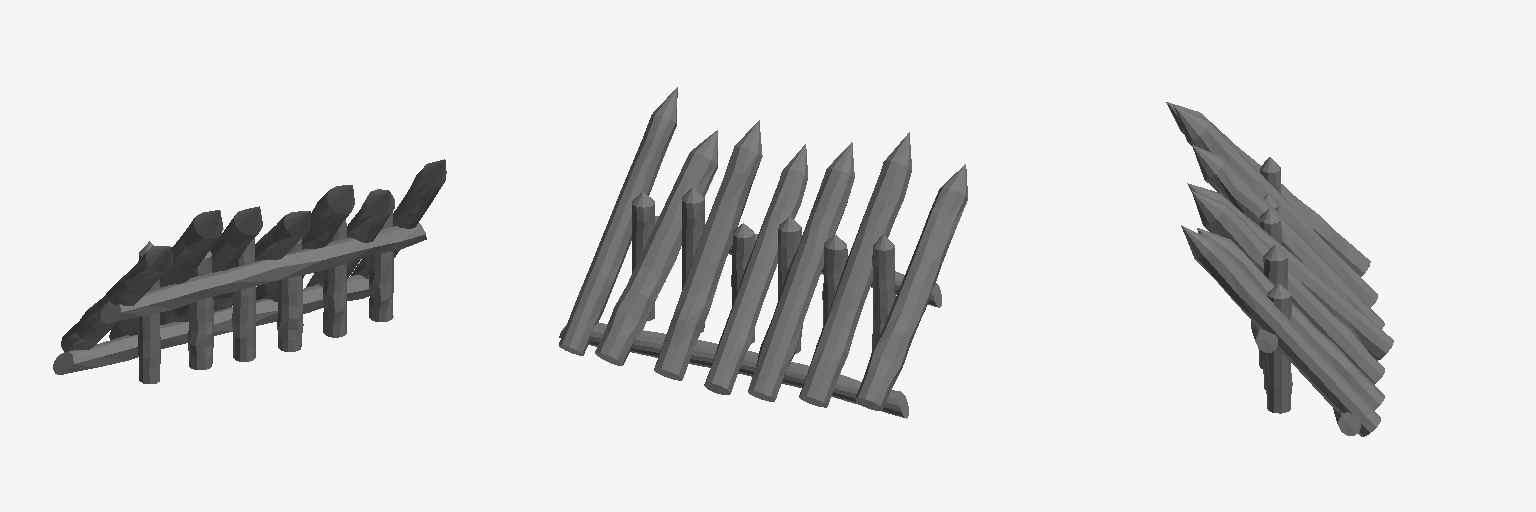
The model's file is Barricade 1.obj.
3 renders of one model, left to right at view 1: azimuth 30°, elevation 25°; view 2: azimuth 150°, elevation 25°; view 3: azimuth 270°, elevation 25°, orthographic.
Parts seen in each view (by area): view 1: polySurface259; view 2: polySurface259; view 3: polySurface259.
Boxes of the visible parts, <box> form: polySurface259: <box>53,159,446,383</box>; polySurface259: <box>559,87,967,418</box>; polySurface259: <box>1166,102,1393,436</box>.
Size of the model in its own units: 533 by 320 by 310.